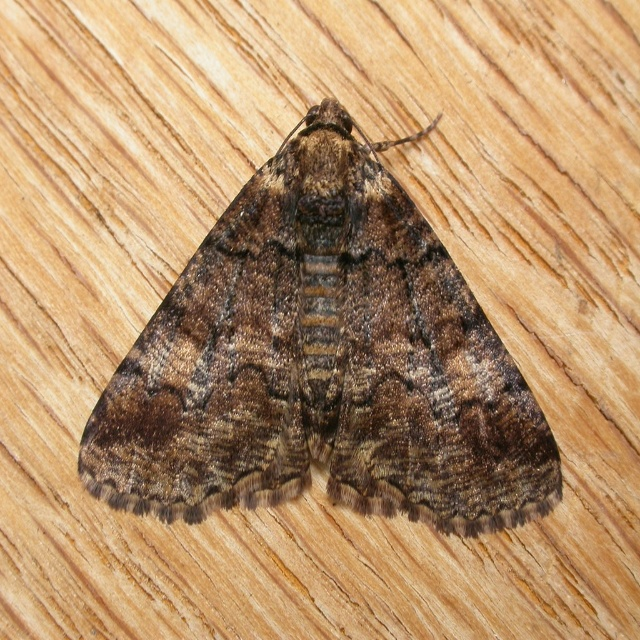Moths and butterflies: (79, 95, 565, 536)
